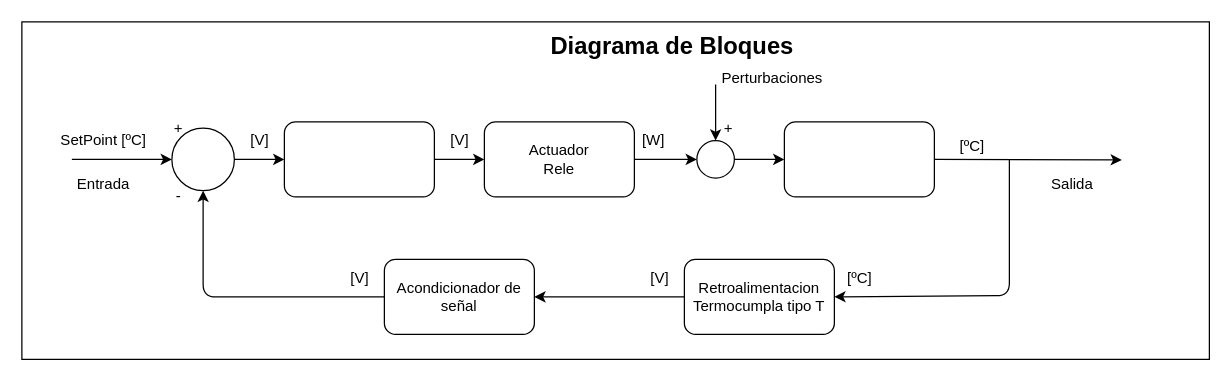
This 1231x381 diagram has some shape labels left out. The centre of each missing label's shape, as x and y in pixels:
"Controlador" goes at (x=358, y=159).
"Planta Horno Electrico" goes at (x=858, y=159).
